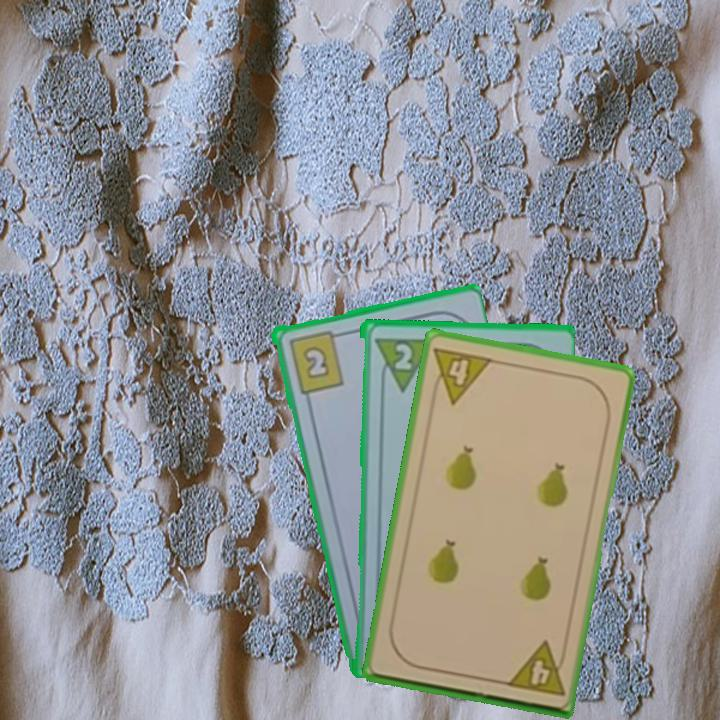2b: (284, 326, 347, 396)
2p: (390, 339, 415, 373)
4p: (427, 343, 495, 407), (502, 638, 570, 699)
